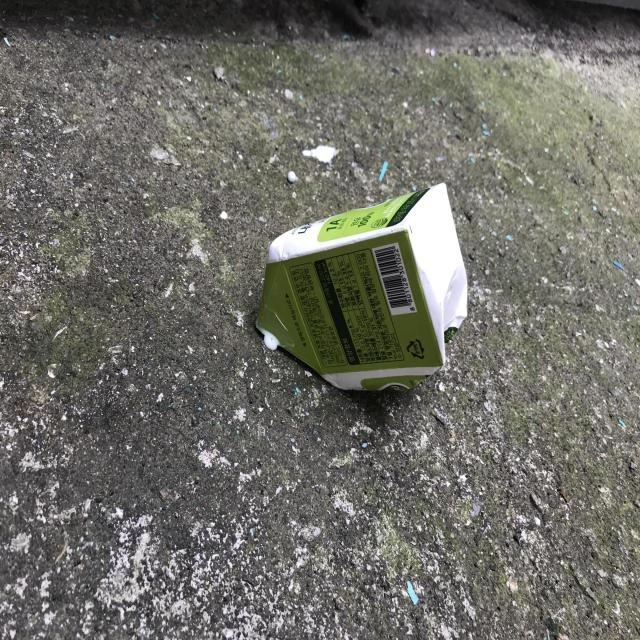paperpack: (255, 182, 468, 390)
